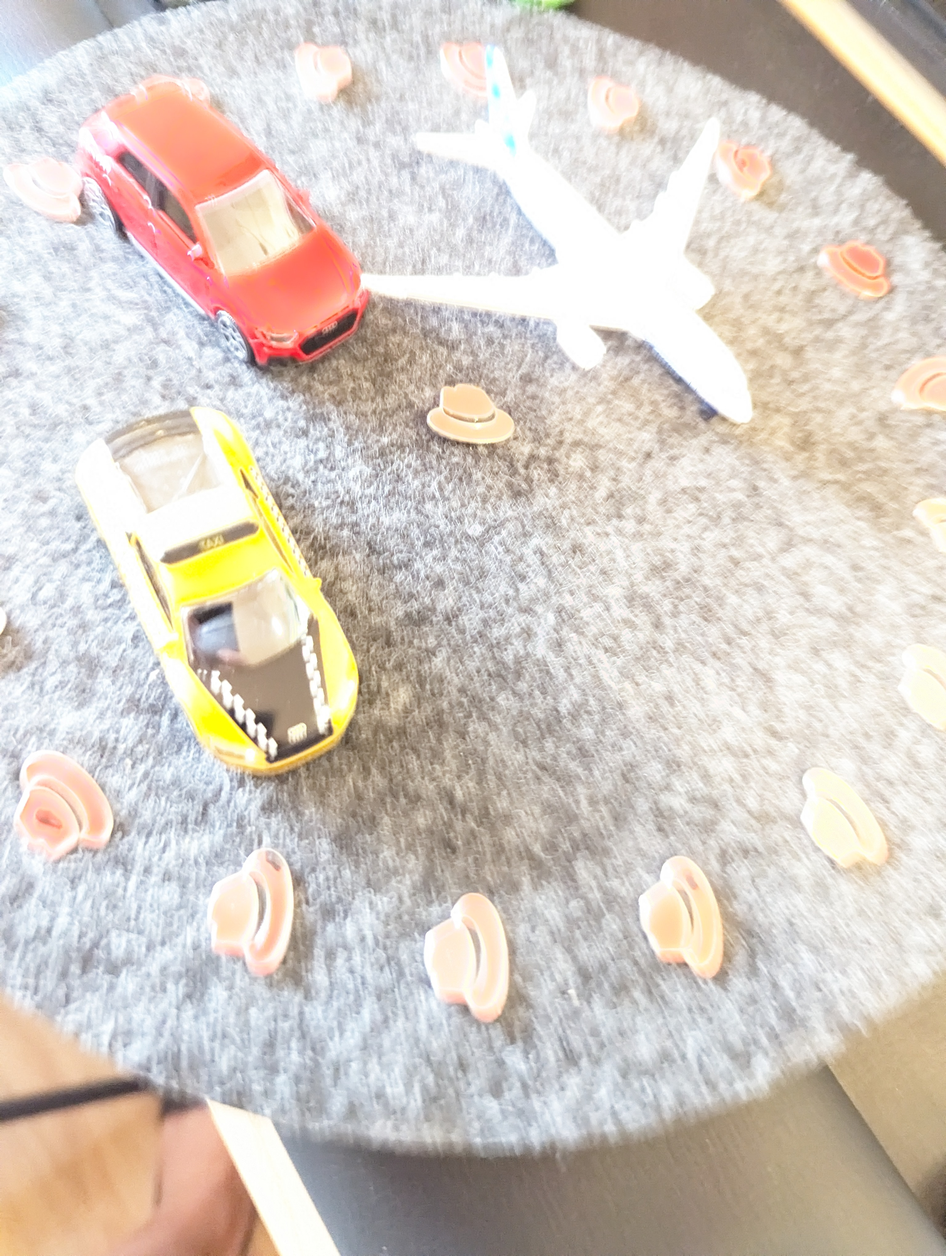Airplane: (291, 25, 776, 463)
Car: (42, 388, 380, 791), (48, 70, 381, 373)
Red-Hat: (191, 803, 338, 995), (611, 817, 736, 993), (3, 735, 136, 896), (413, 875, 521, 1037), (773, 753, 895, 883), (410, 375, 529, 462), (800, 224, 906, 310), (698, 111, 784, 208), (0, 142, 90, 227), (579, 59, 656, 156), (428, 22, 512, 107), (885, 630, 946, 743), (284, 24, 358, 114), (873, 344, 946, 427)
Scratch: (25, 794, 72, 844), (253, 828, 294, 878), (668, 860, 704, 898), (729, 152, 764, 178)
